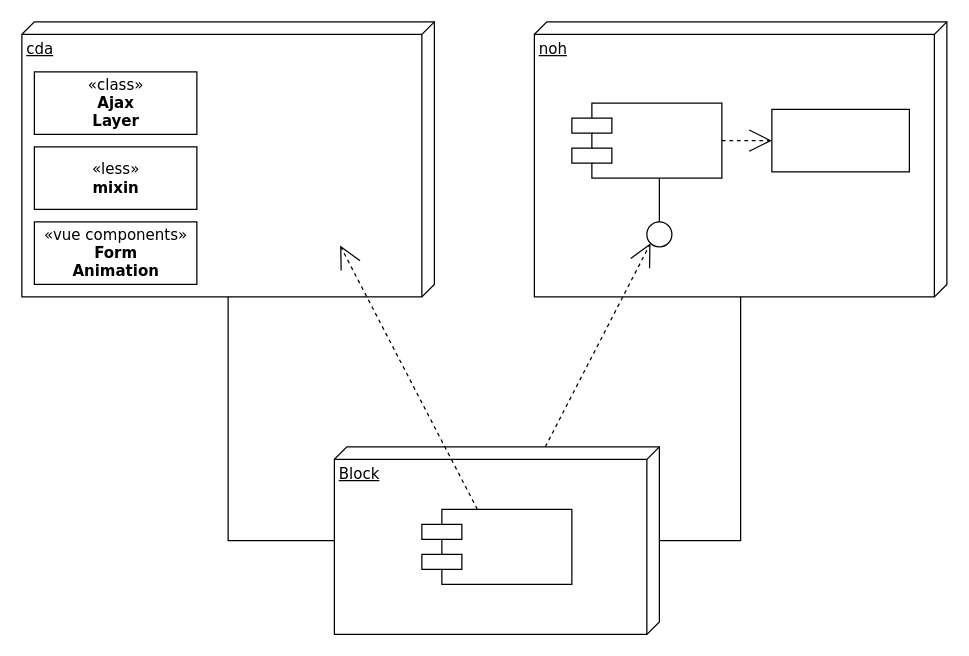
Some shapes in this 969 by 656 pixel diagram are drawn without their labels. The box of each missing label's shape, as (x1, y1, x2, y2) in pixels:
extens import: (421, 508, 572, 584)
Module: (571, 102, 722, 178)
«interface» Name: (771, 108, 909, 172)
